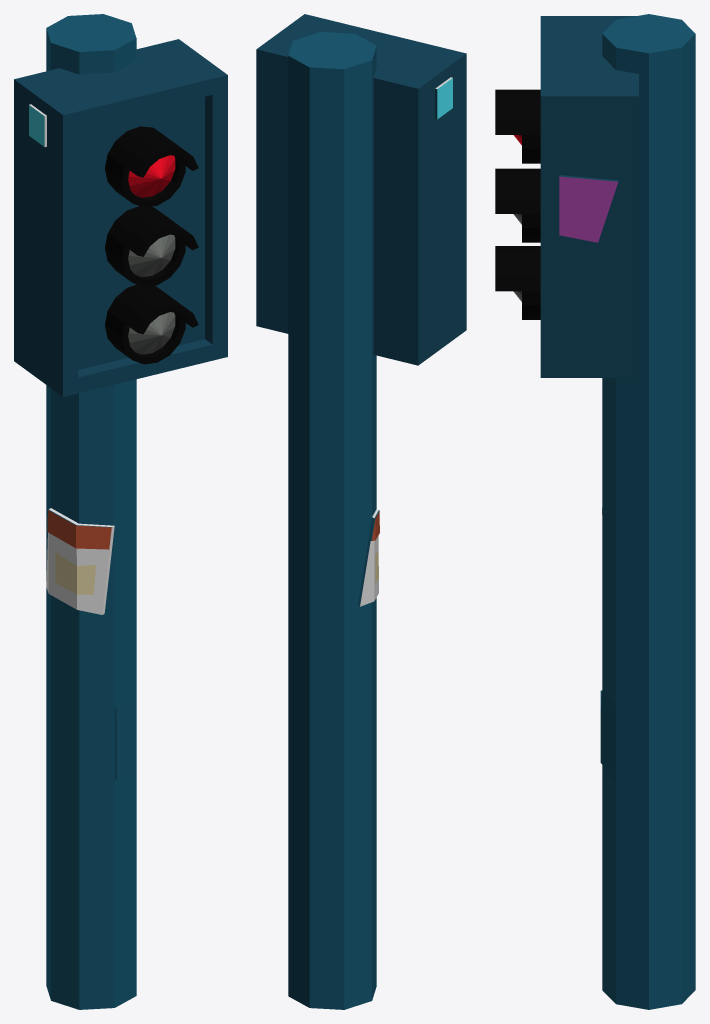
Rendered from semaforoRojo2.fbx.
The picture shows the model from 3 angles, left to right: view 1: azimuth 30°, elevation 25°; view 2: azimuth 150°, elevation 25°; view 3: azimuth 270°, elevation 25°; orthographic projection.
Parts seen in each view (by area): view 1: semaforo; view 2: semaforo; view 3: semaforo.
Boxes of the visible parts, x1,y1,x2,y2 form: semaforo: (14, 14, 227, 1009); semaforo: (256, 14, 466, 1009); semaforo: (495, 14, 695, 1009).
Size of the model in its own units: 18.35 by 98.69 by 18.7.
